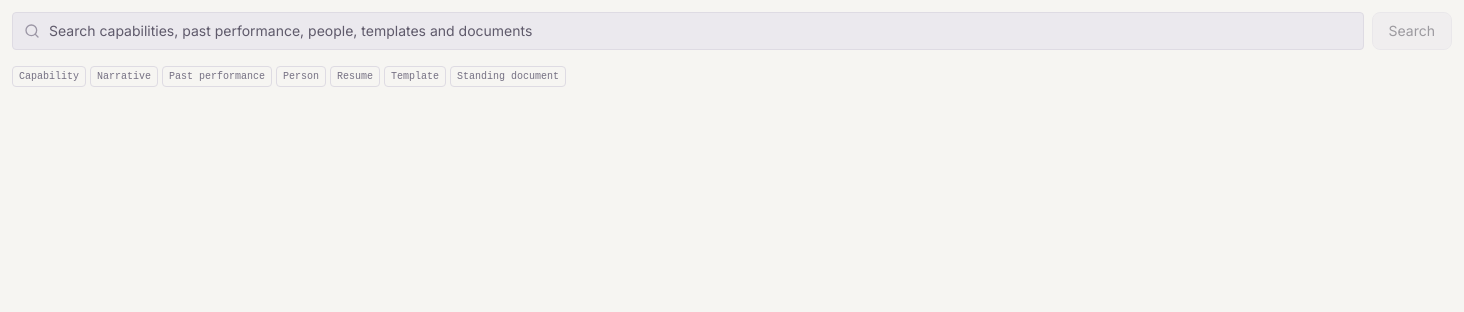
it: KnowledgeSearch › renders results with their type and approval state
Replace the text in the field named "Search knowledge" with "cyber": (688, 31) [12,12,1364,50]
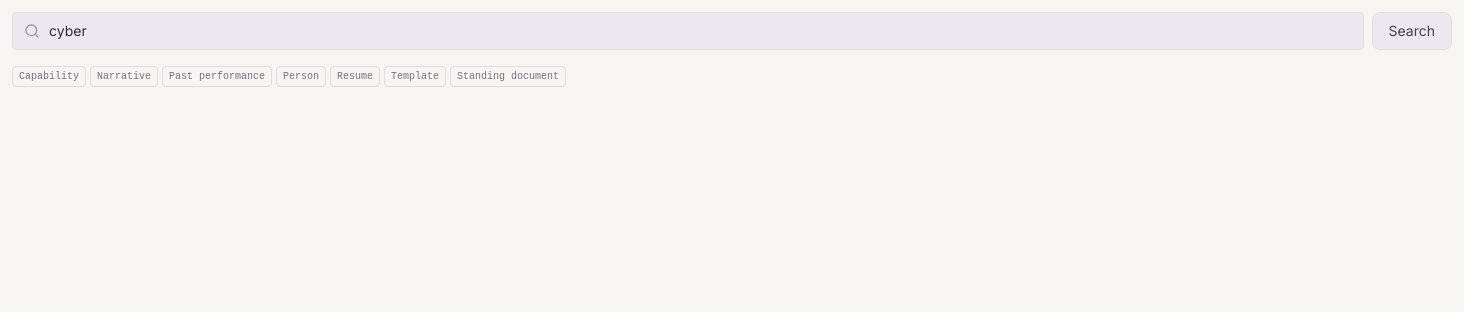
Click the button "Search": (1412, 31) [1372,12,1452,50]
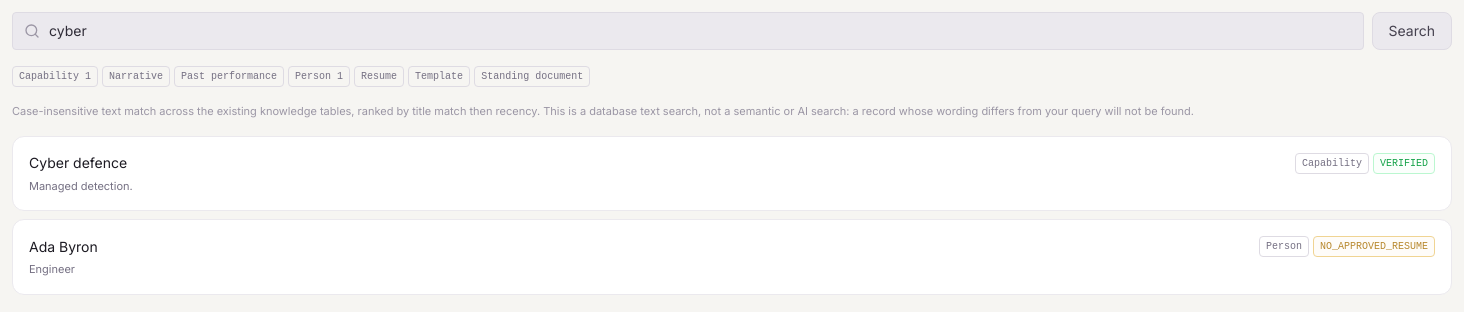
Expected: the text "Cyber defence" is shown, [29,153,127,173]
Expected: the text "VERIFIED" is shown, [1373,152,1435,174]
Expected: the text "NO_APPROVED_RESUME" is shown, [1313,236,1435,257]
